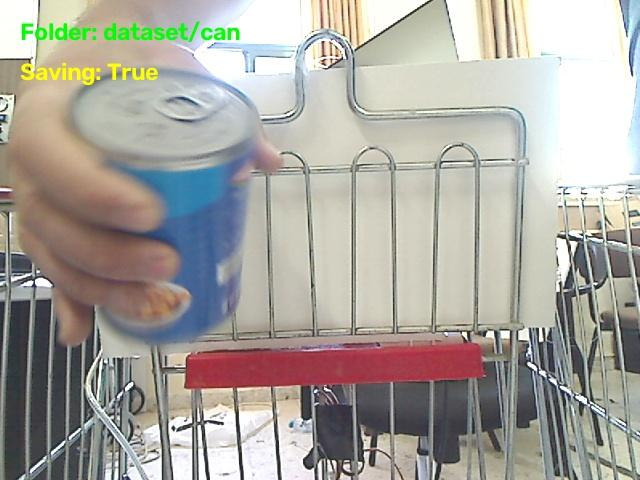can: (71, 69, 259, 343)
